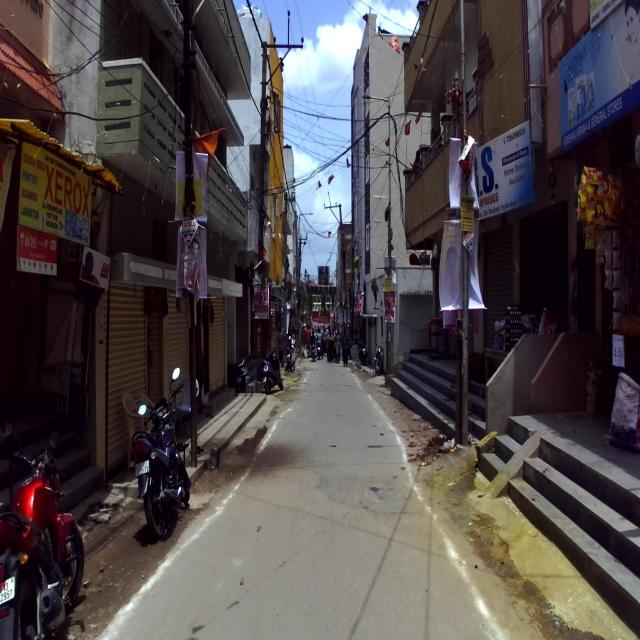motorcycle: (0, 419, 84, 638), (130, 366, 192, 540)
scooter: (260, 345, 283, 394), (226, 357, 248, 391)
